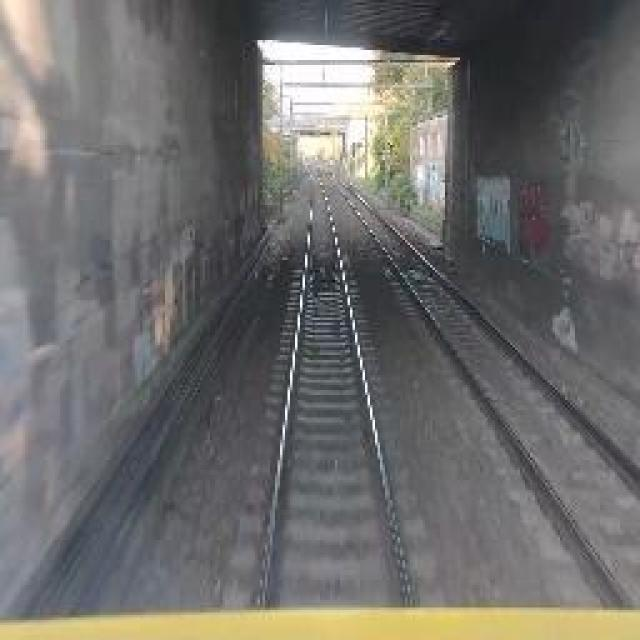rail: (207, 159, 453, 617)
